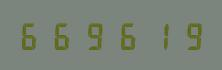nine: (80, 20, 110, 50), (173, 20, 203, 50)
one: (142, 20, 172, 50)
six: (17, 20, 47, 50), (48, 20, 78, 50), (111, 20, 141, 50)
